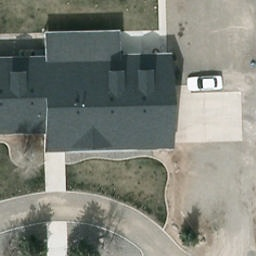car: (185, 75, 223, 93)
